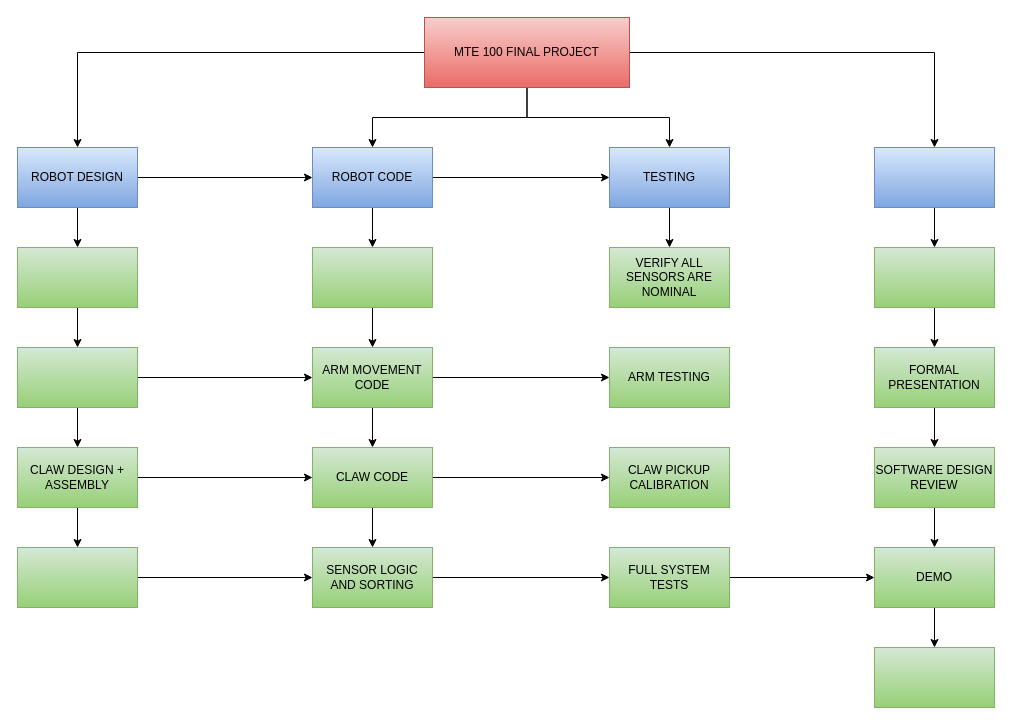
This 1012x725 diagram has some shape labels left out. The shapes that lost their labels are listed below. From the top down, each one's centre as x and y in pixels, then its label:
At point (934, 177): "PROJECT DELIVERABLES".
At point (77, 277): "FINALIZE DESIGN + DETAILED ASSEMBLY SKETCH".
At point (372, 277): "PLAN CODE ARCHITECTURE".
At point (934, 277): "DESIGN REVIEW + PARTS REQUEST".
At point (77, 377): "ARM DESIGN + ASSEMBLY".
At point (77, 577): "COMPLETE ASSEMBLY".
At point (934, 677): "FINAL DESIGN REPORT".
